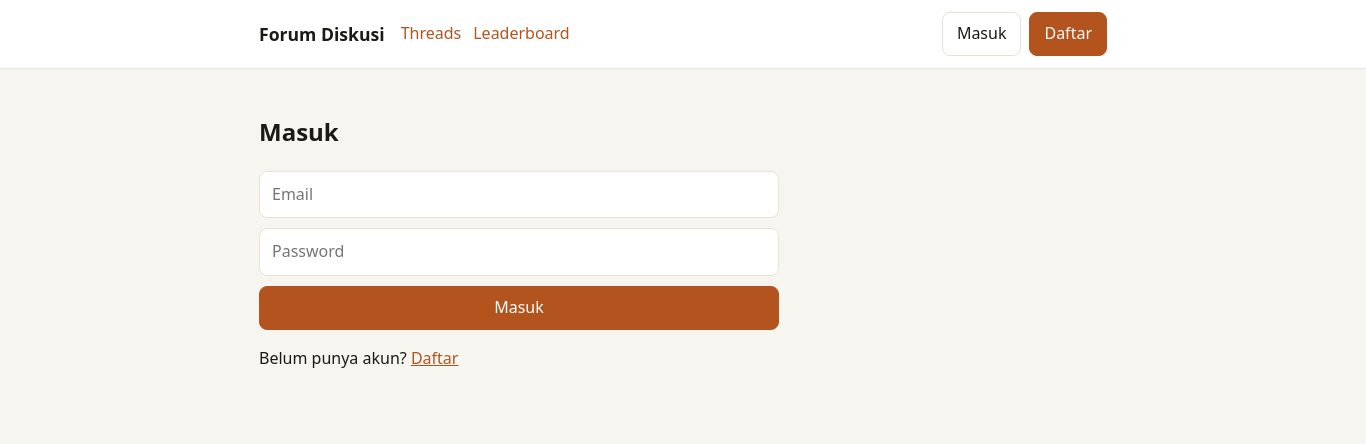
Login spec › should display error when email and password are wrong
The width and height of the screenshot is (1366, 444).
Type "salah@example.com" into the field with placeholder "Email".
click(519, 195); type("salah@example.com")  # box x1=259 y1=171 x2=779 y2=219
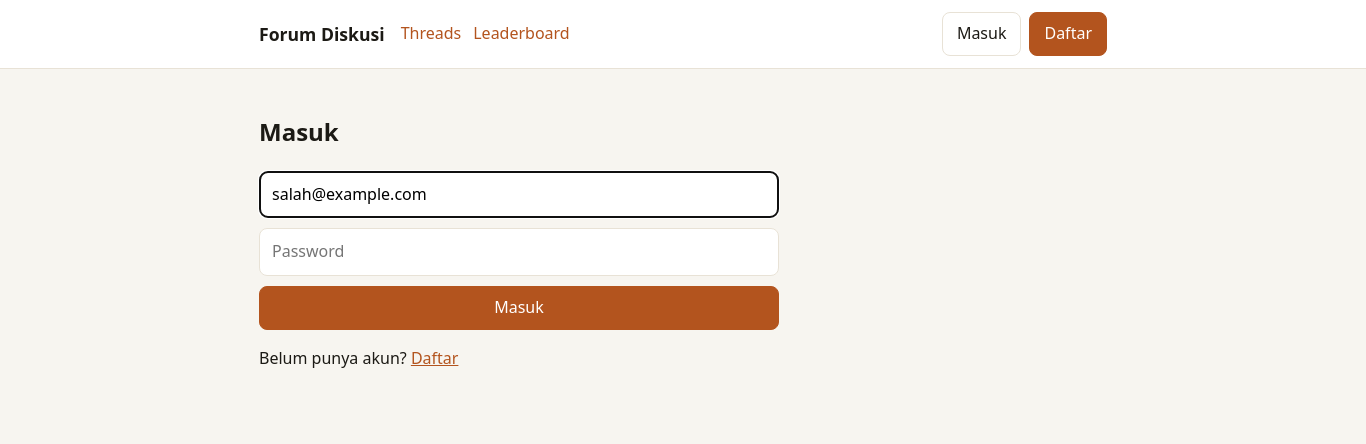
Type "passwordsalah" into the password field with placeholder "Password".
click(519, 252); type("passwordsalah")  # box x1=259 y1=228 x2=779 y2=276
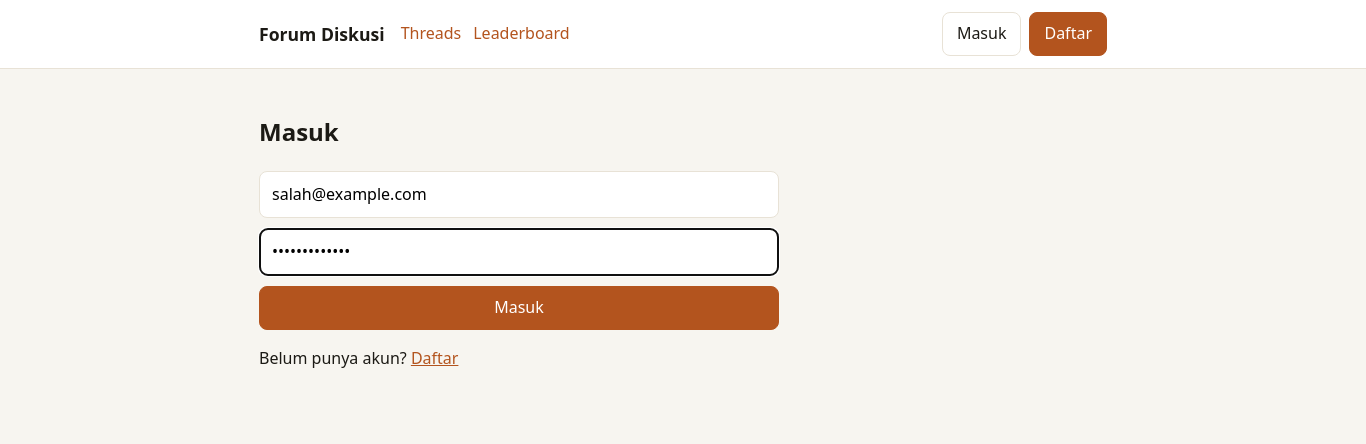
Click the button "Masuk".
click(519, 308)  # box x1=259 y1=286 x2=779 y2=330
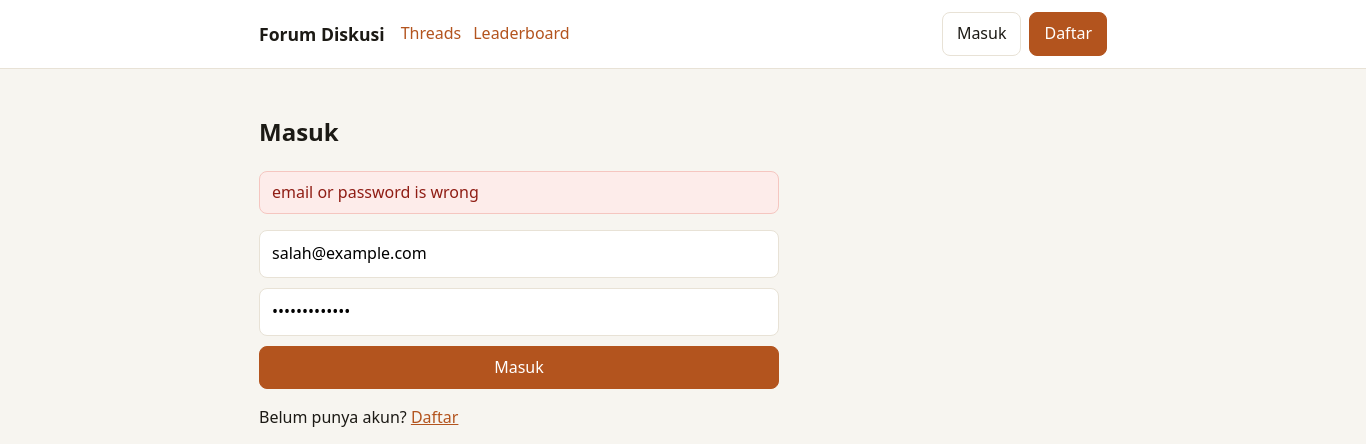
Expected: the text "email or password is wrong" is shown, x1=259 y1=171 x2=779 y2=214
Expected: the text with class "error" reads "email or password is wrong", x1=272 y1=181 x2=479 y2=203
